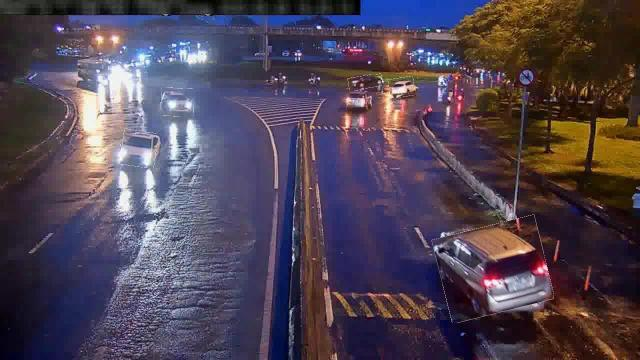Car: (436, 221, 550, 318), (120, 130, 158, 167), (162, 88, 194, 116), (346, 89, 372, 111), (348, 74, 382, 90), (389, 78, 415, 98)
